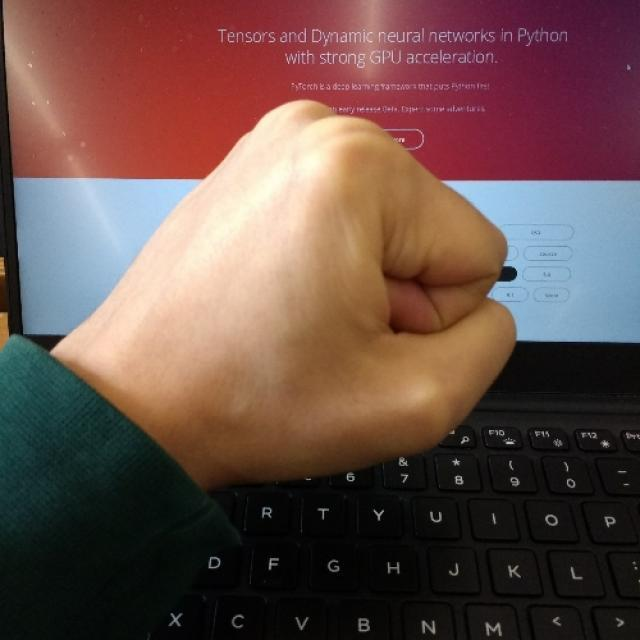rock: (178, 99, 516, 484)
